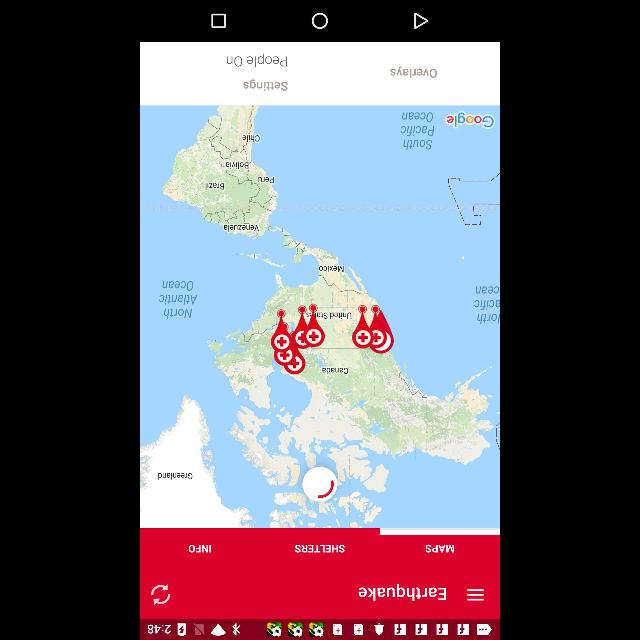icon: (149, 582, 171, 608), (413, 12, 429, 28), (312, 12, 328, 28), (211, 12, 227, 28), (466, 588, 484, 602)
map: (140, 106, 500, 528)
multitab: (140, 527, 500, 569)
panel: (140, 43, 498, 105), (140, 0, 500, 40)
text: (356, 586, 446, 600), (226, 56, 288, 66), (296, 542, 346, 554), (389, 66, 437, 78), (241, 80, 289, 90), (425, 544, 455, 554), (188, 544, 214, 554)
toolbar: (141, 570, 499, 618)
uppertaskbar: (140, 620, 500, 640)
